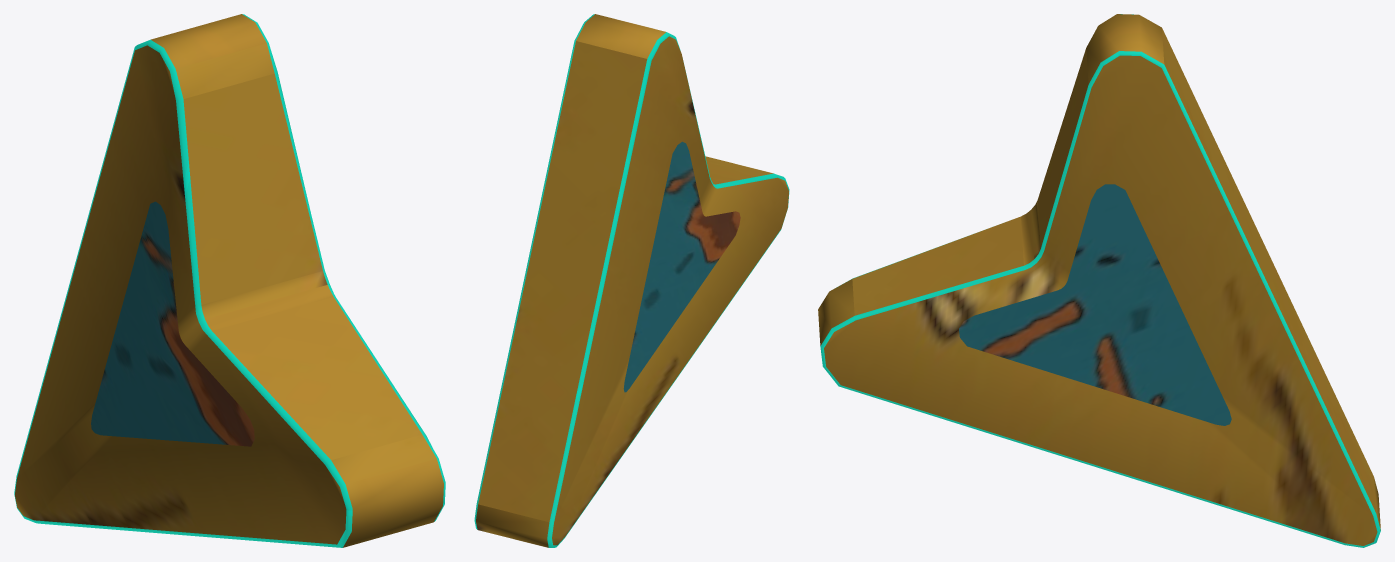
File: arrow.glb
3 renders of one model, left to right at view 1: azimuth 30°, elevation 25°; view 2: azimuth 150°, elevation 25°; view 3: azimuth 270°, elevation 25°, orthographic. The views are drawn at different scales.
Visible parts, largest first — view 1: Arrow; view 2: Arrow; view 3: Arrow.
Part boxes in pixels (x1,y1,x2,y2): Arrow: (14,14,445,547); Arrow: (474,14,789,547); Arrow: (818,14,1380,547).
Size of the model in its own units: 0.2245 by 0.8982 by 0.923.
2 materials, 2 textured.
